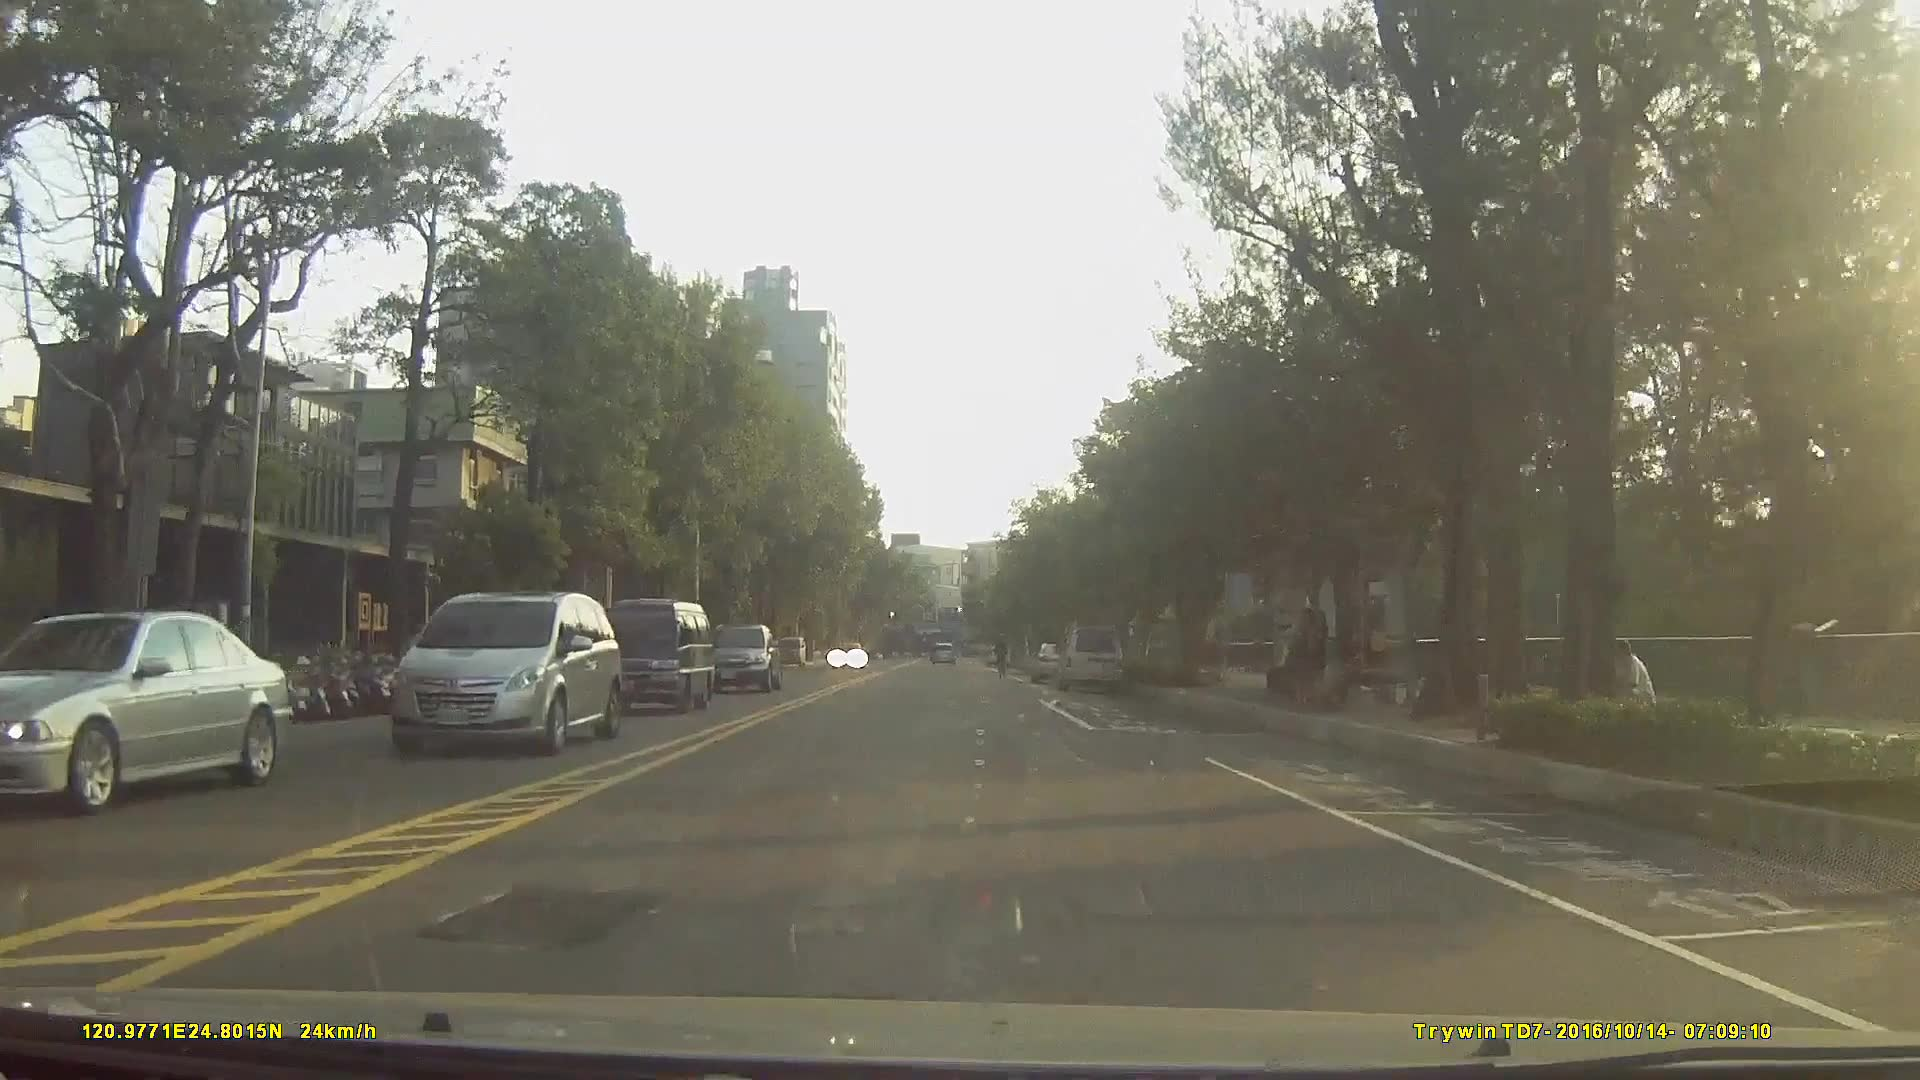pedestrian: (1263, 618, 1303, 702)
rider: (993, 631, 1013, 677)
vehicle: (0, 608, 293, 814), (387, 590, 621, 759), (593, 594, 717, 708), (700, 621, 784, 690), (1051, 622, 1126, 690), (1030, 637, 1077, 681), (774, 632, 808, 666), (828, 637, 865, 667), (928, 639, 958, 665)
